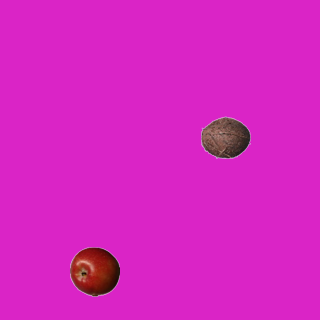Apple Braeburn: (69, 246, 119, 296)
Cocos: (200, 112, 250, 162)
